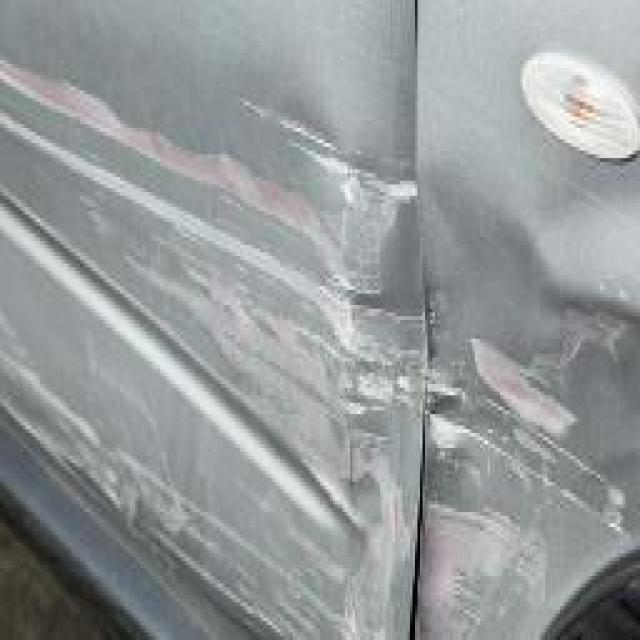Door: (0, 177, 415, 527)
Fender: (425, 286, 555, 632)
